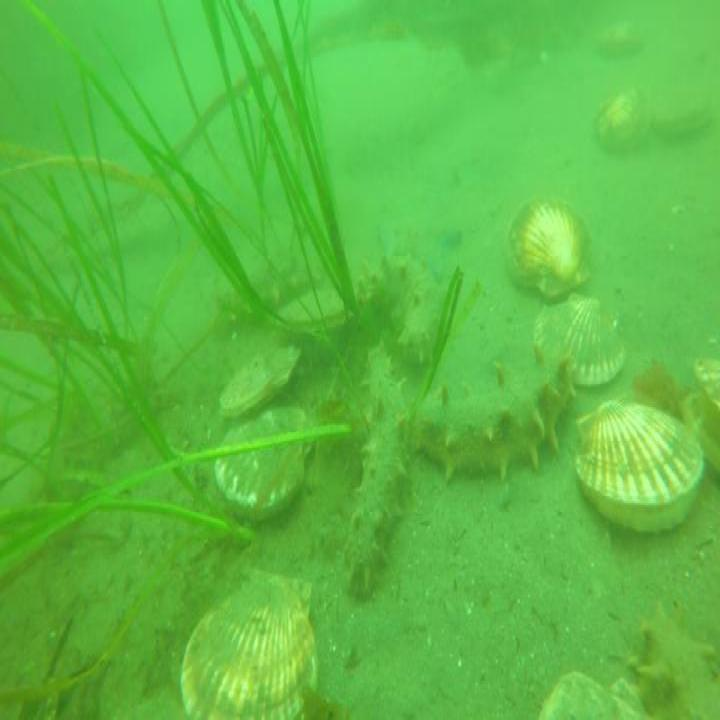holothurian: (415, 354, 576, 489), (336, 345, 410, 599), (360, 231, 451, 381), (625, 597, 720, 720), (214, 266, 301, 323)
scallop: (168, 569, 318, 720), (573, 396, 705, 544), (211, 404, 314, 523), (532, 291, 629, 393), (507, 190, 594, 300), (217, 341, 302, 425), (539, 658, 654, 720), (674, 345, 720, 485), (590, 75, 650, 158), (649, 70, 715, 142), (281, 290, 358, 338), (591, 16, 643, 62)
